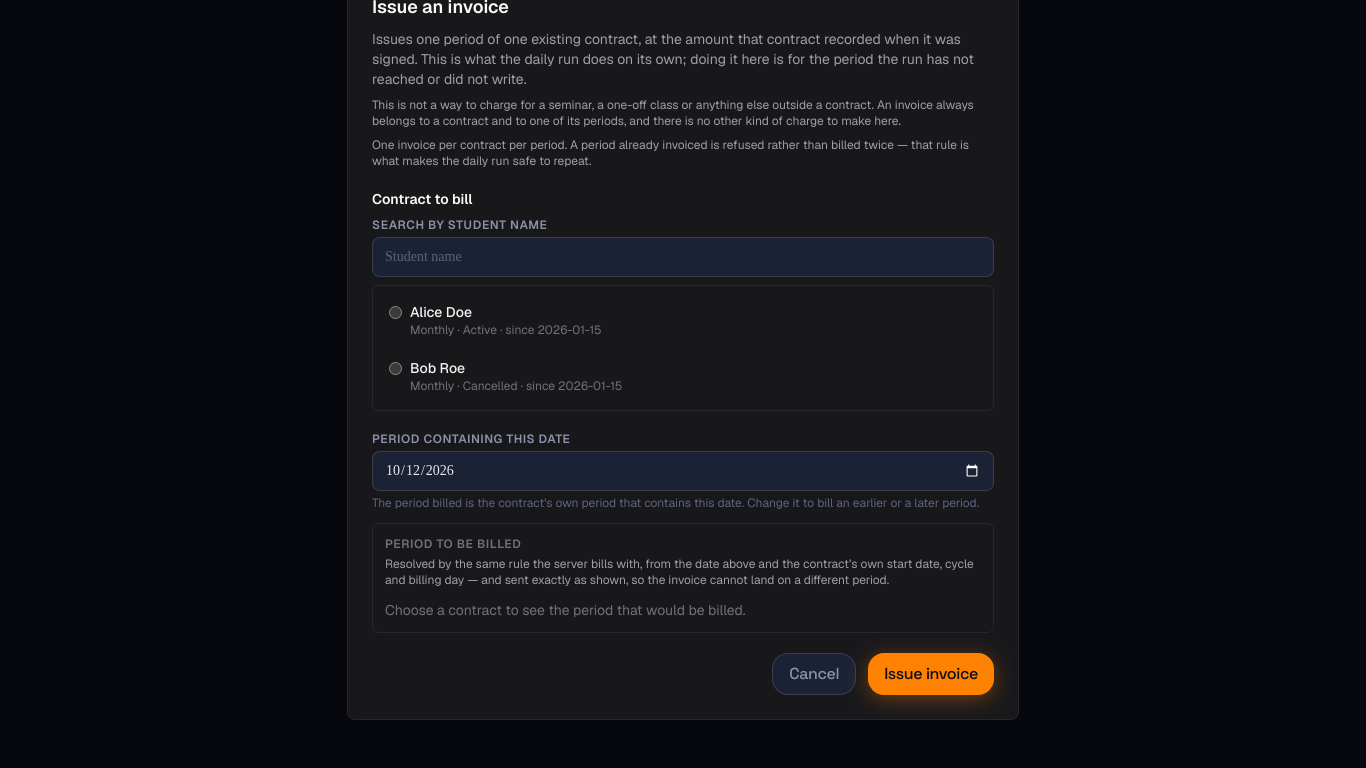
Test: IssueInvoiceForm › refuses to submit without a contract, issuing no write
(page scrolled)
expect the radio button labelled "Alice Doe Monthly · Active · since 2026-01-15" is shown: met, box [389, 306, 402, 319]
Click the button "Issue invoice" at (931, 674), box [868, 653, 994, 695]
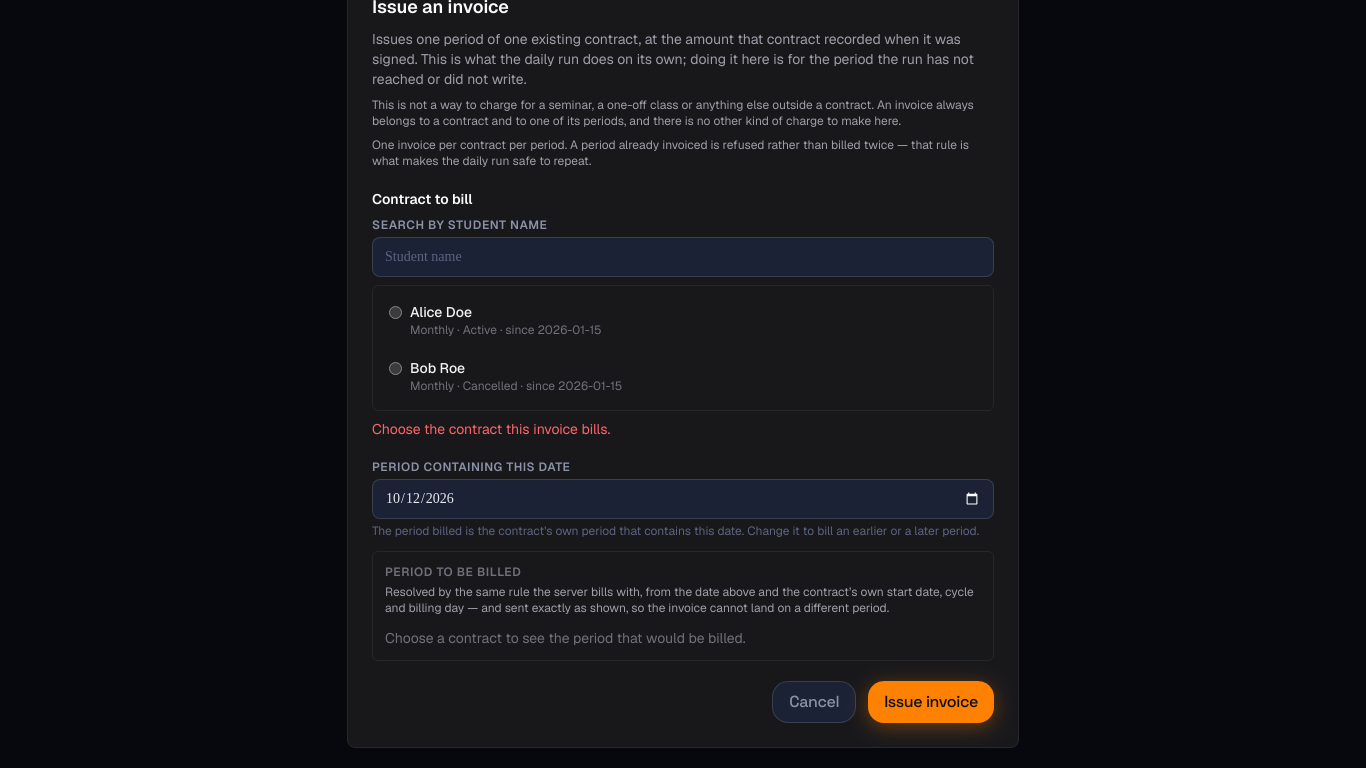
expect the text "Choose the contract this invoice bills." is shown: met, box [372, 420, 610, 438]
